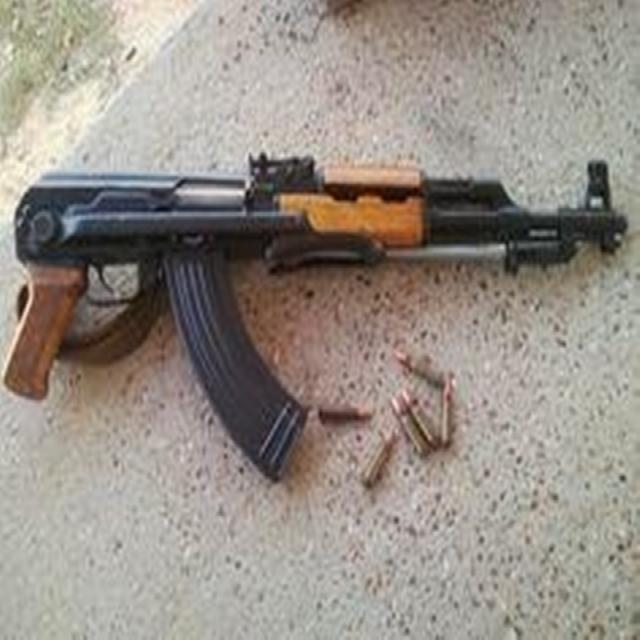ak: (3, 157, 633, 487)
